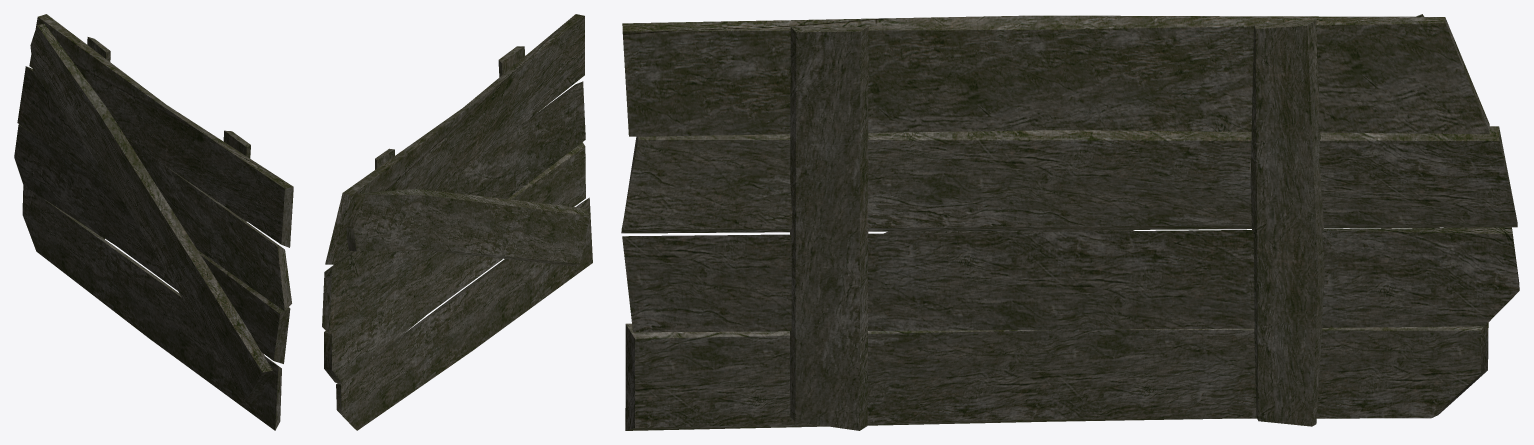
The model's file is TI_Door_01.fbx.
The picture shows the model from 3 angles, left to right: view 1: azimuth 30°, elevation 25°; view 2: azimuth 150°, elevation 25°; view 3: azimuth 270°, elevation 25°; orthographic projection. The views are drawn at different scales.
Parts seen in each view (by area): view 1: TI_Door_01; view 2: TI_Door_01; view 3: TI_Door_01.
Boxes of the visible parts, <box> form: TI_Door_01: <box>14,14,293,430</box>; TI_Door_01: <box>322,14,592,430</box>; TI_Door_01: <box>621,14,1519,430</box>.
Bounding box in the file's own units: 0.1971 × 1.36 × 2.62.
